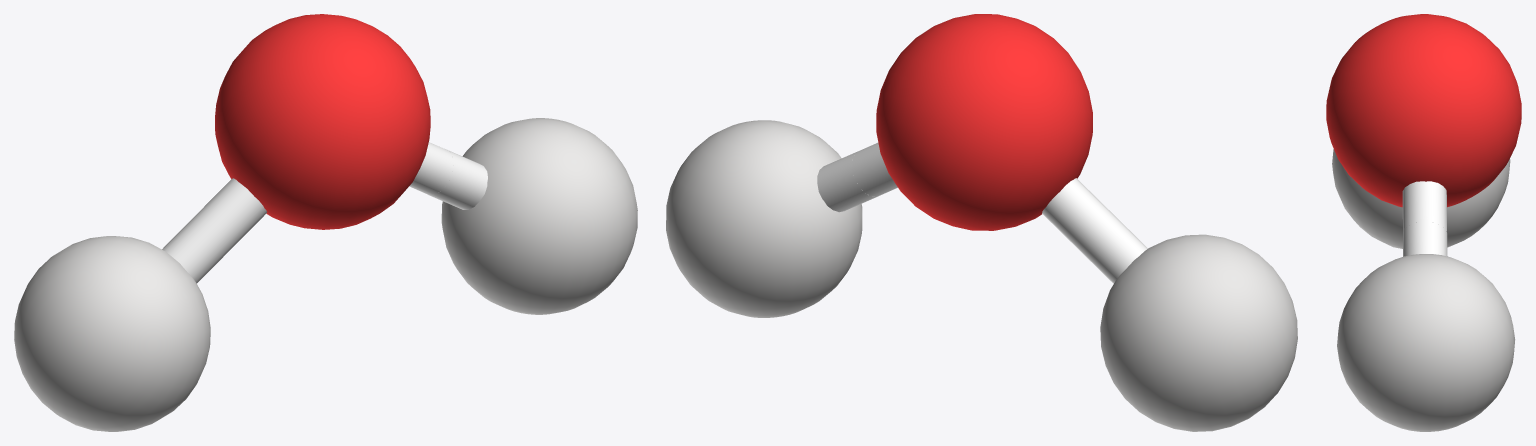
Rendered from shui.FBX.
3 views of the same model, side by side, from view 1: azimuth 30°, elevation 25°; view 2: azimuth 150°, elevation 25°; view 3: azimuth 270°, elevation 25° (orthographic). The views are drawn at different scales.
Parts seen in each view (by area): view 1: Sphere117, Sphere118, Sphere119, Line119, Line120, 对象004; view 2: Sphere117, Sphere118, Sphere119, Line119, Line120, 对象004; view 3: Sphere117, Sphere119, Sphere118, 对象004, Line120.
Boxes of the visible parts, x1,y1,x2,y2 form: Sphere117: (215, 14, 430, 229); Sphere118: (14, 236, 210, 431); Sphere119: (441, 118, 637, 314); Line119: (162, 178, 266, 283); Line120: (429, 149, 487, 209); 对象004: (409, 142, 453, 194); Sphere117: (876, 14, 1092, 230); Sphere118: (1100, 234, 1297, 431); Sphere119: (666, 120, 862, 317); Line119: (1042, 178, 1147, 283); Line120: (817, 151, 878, 212); 对象004: (852, 142, 897, 196); Sphere117: (1326, 14, 1521, 207); Sphere119: (1337, 254, 1515, 431); Sphere118: (1332, 149, 1510, 248); 对象004: (1402, 181, 1447, 233); Line120: (1403, 222, 1447, 256).
Bounding box in the file's own units: 42.21 × 23.26 × 13.16.
1 material, 1 textured.
